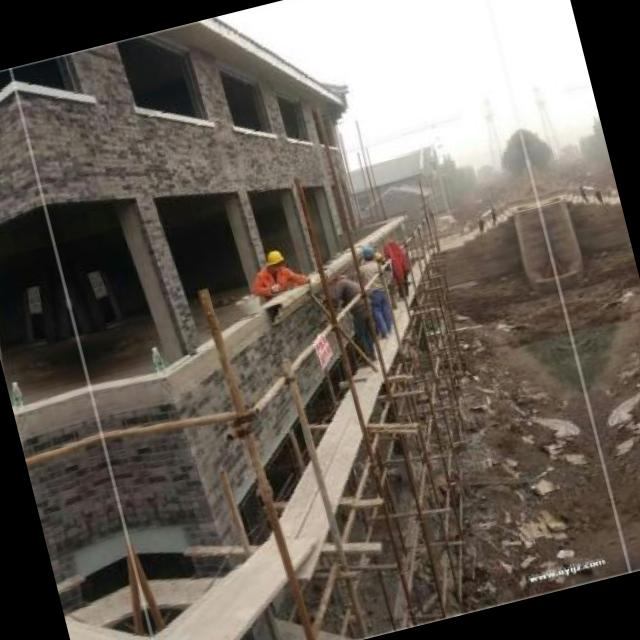helmet: (260, 243, 290, 280), (356, 240, 378, 268)
